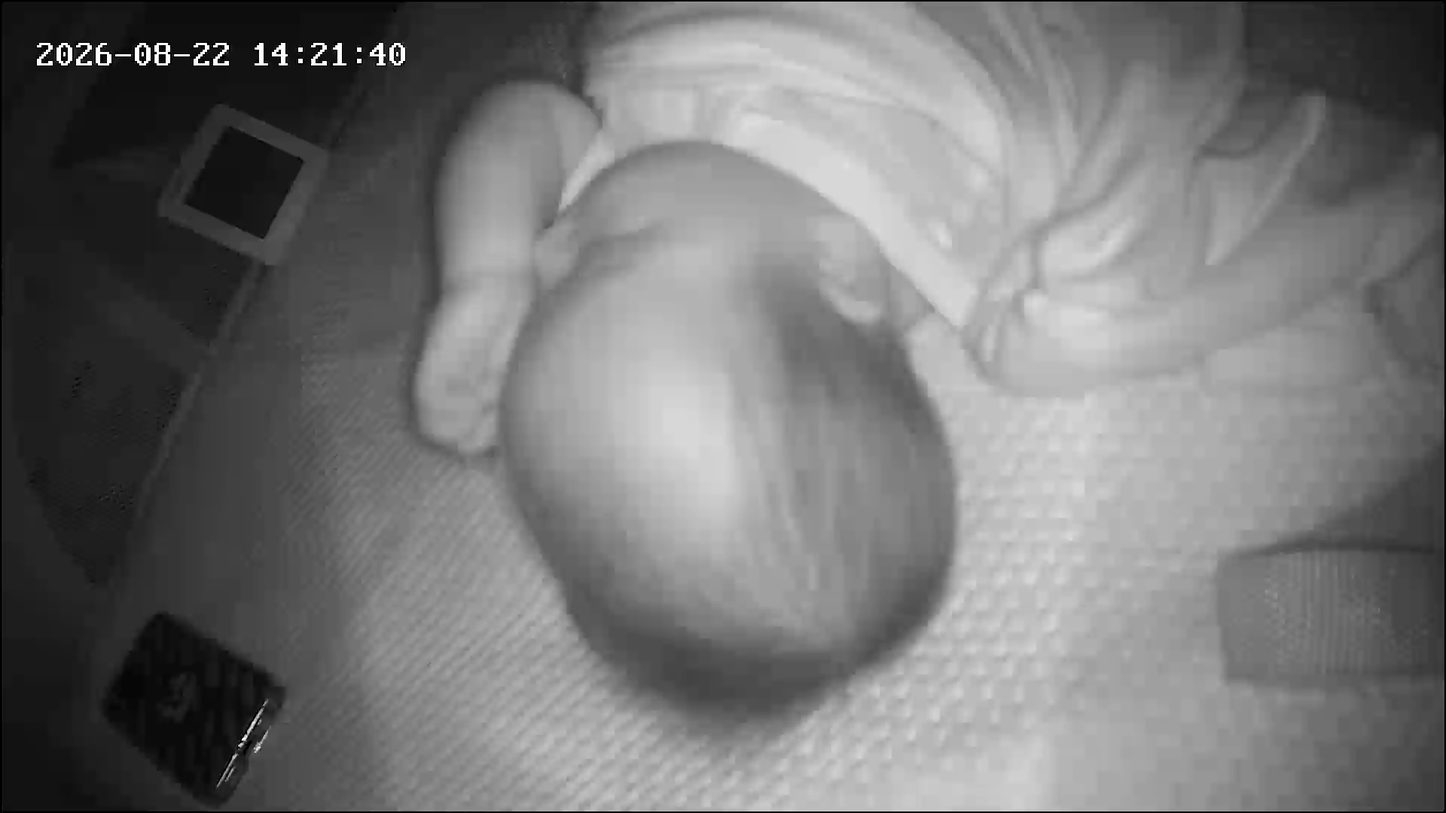baby: (0, 0, 1031, 732), (324, 0, 1157, 732)
baby_face: (480, 142, 968, 708)
